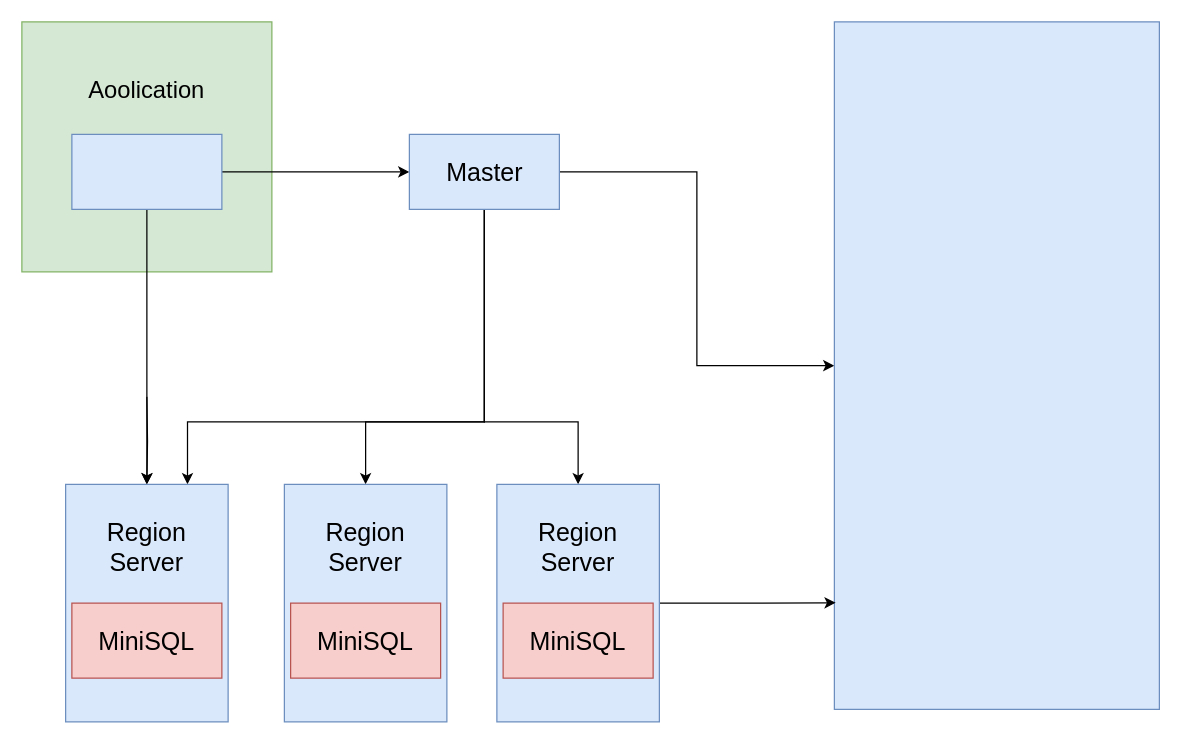
The diagram is 1181 pixels wide and 744 high, and some of its shapes have lost their labels. The shapes that lost their labels are listed below. From the top down, each one's box as (x1, y1, x2, y2) in pixels, then its label:
(71, 133, 222, 209): Client
(833, 21, 1159, 709): Zookeeper 集群
